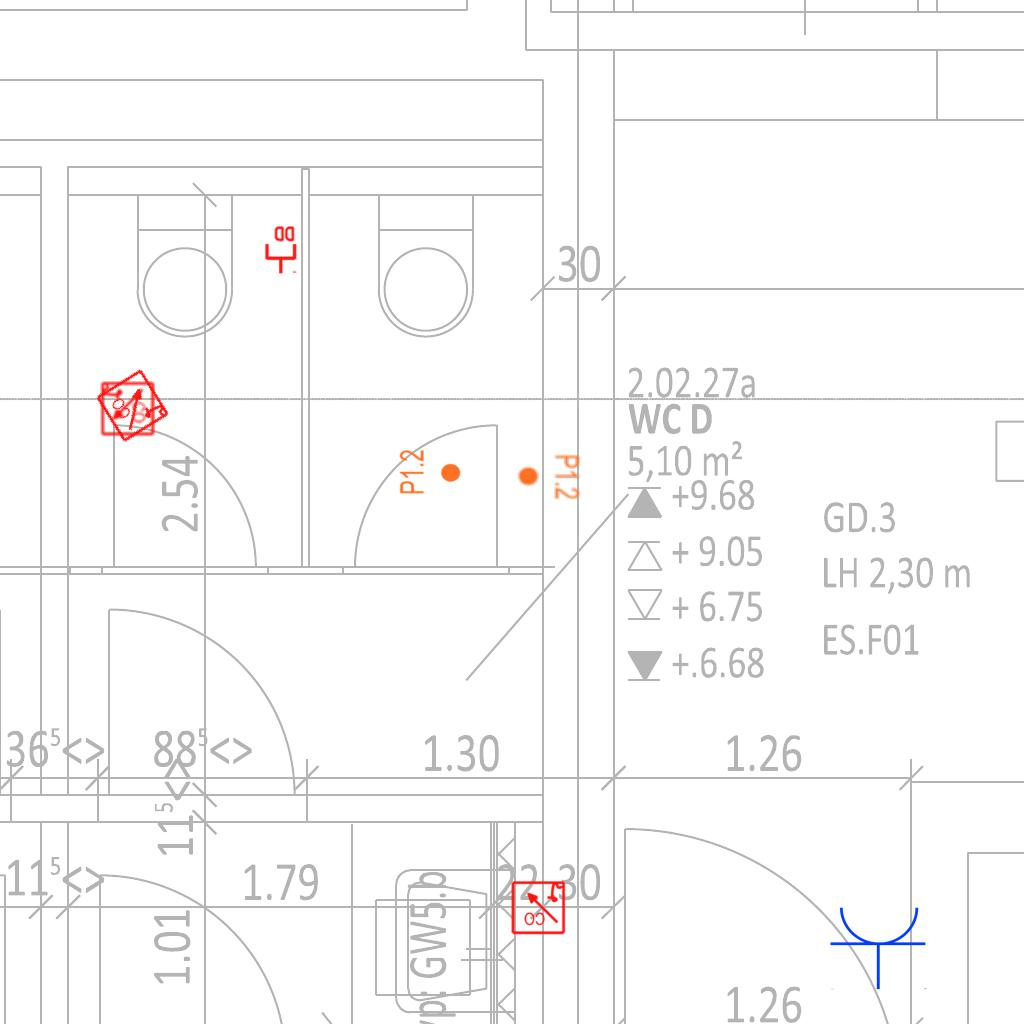Datenanschluss_zweifach: (263, 224, 297, 275)
Downlight_LED_Einbauleuchten_Flur: (398, 449, 462, 495), (517, 454, 581, 500)
ROA_Rauchmelder_optisch_mit_Signalgeber_(Sockelsirene): (94, 366, 172, 444), (510, 879, 566, 935), (99, 381, 155, 437)
Schukosteckdose_einfach: (829, 903, 929, 990)
